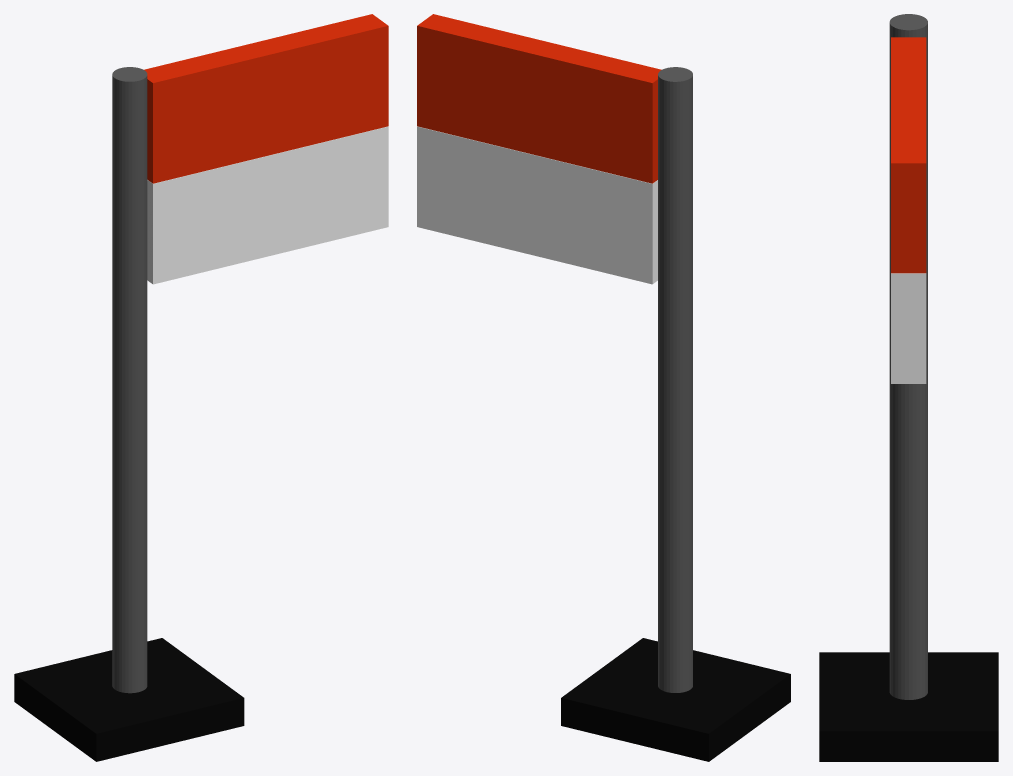
The model's file is benderaIndo.fbx.
3 renders of one model, left to right at view 1: azimuth 30°, elevation 25°; view 2: azimuth 150°, elevation 25°; view 3: azimuth 270°, elevation 25°, orthographic. The views are drawn at different scales.
Visible parts, largest first — view 1: Cube.002; view 2: Cube.002; view 3: Cube.002.
Boxes of the visible parts, x1=… form: Cube.002: x1=14, y1=14, x2=388, y2=761; Cube.002: x1=417, y1=14, x2=790, y2=761; Cube.002: x1=819, y1=14, x2=998, y2=761.
Size of the model in its own units: 1353 by 2544 by 591.
